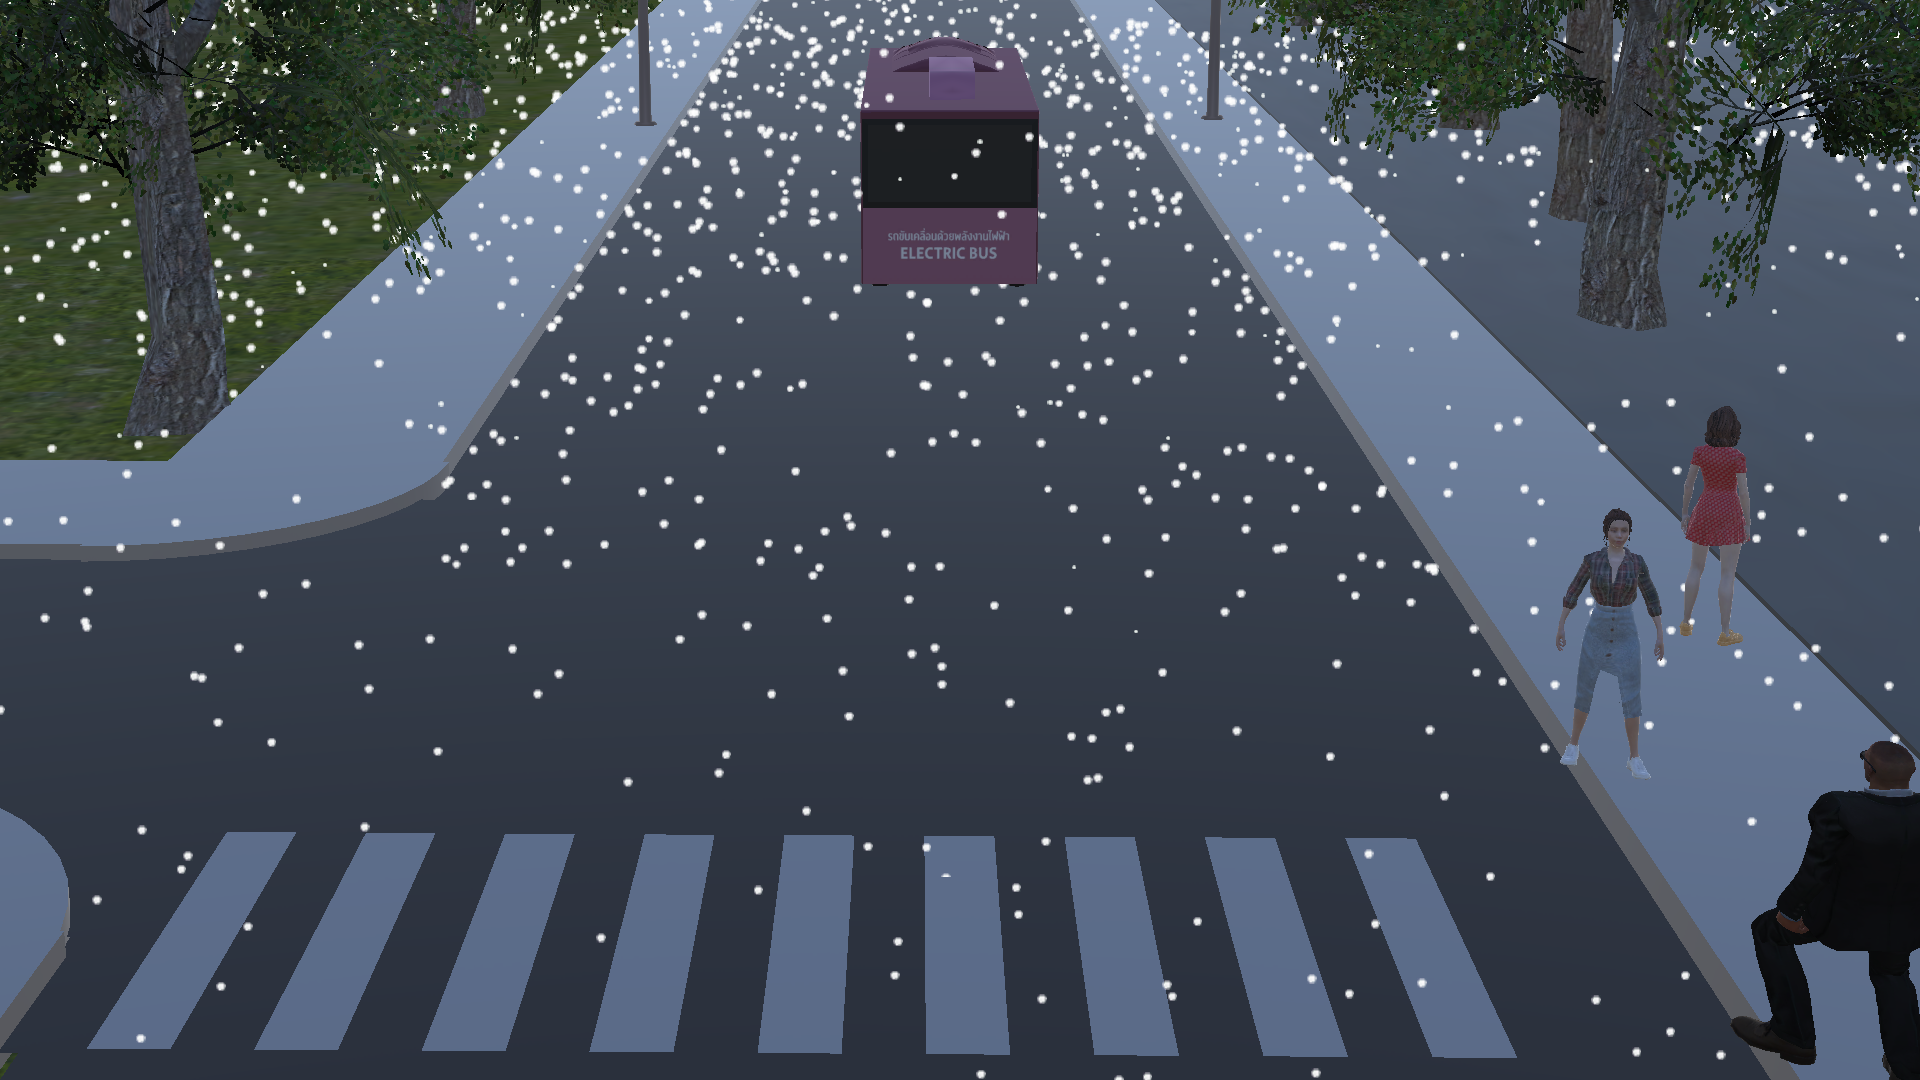pedestrian: (1726, 702, 1920, 1080), (1545, 502, 1672, 784), (1676, 399, 1759, 656)
